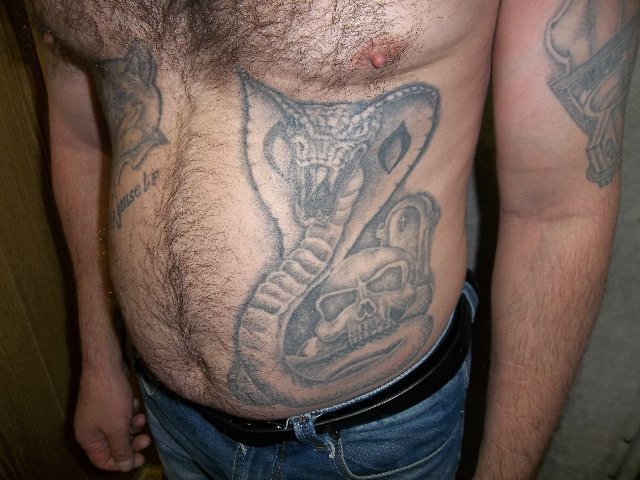tatu7_zmeya: (215, 60, 470, 402)
